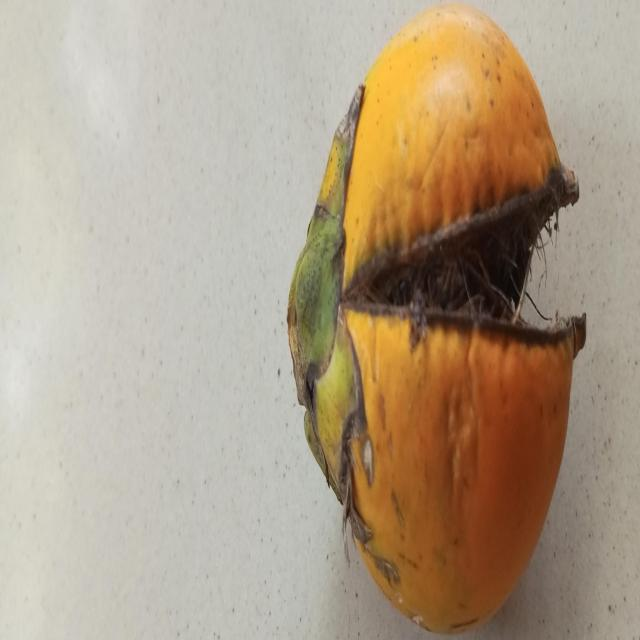damaged: (289, 6, 588, 637)
